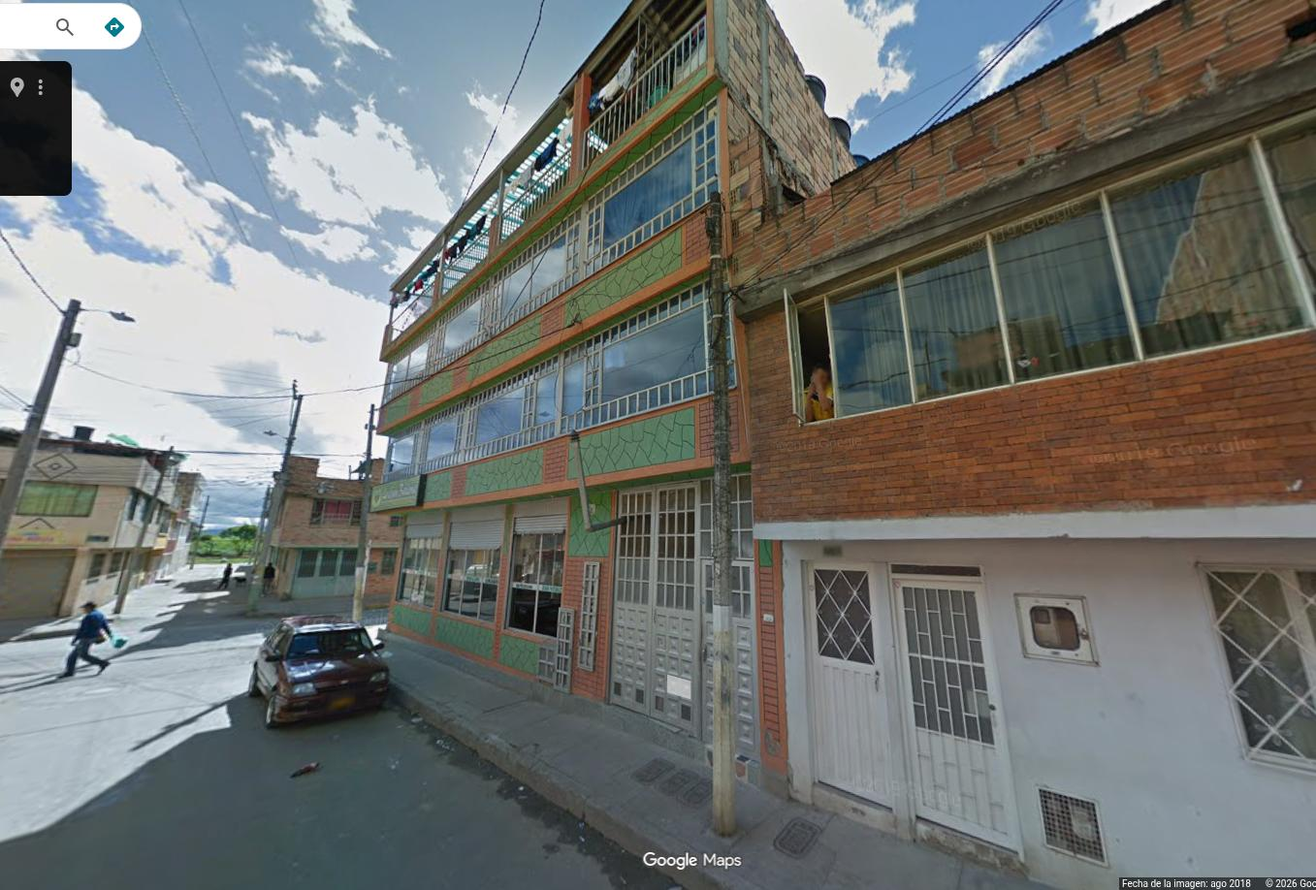casa: (736, 0, 1315, 889), (371, 0, 863, 737)
poste: (0, 300, 80, 559), (705, 193, 736, 837), (246, 383, 303, 615), (95, 310, 135, 322)
